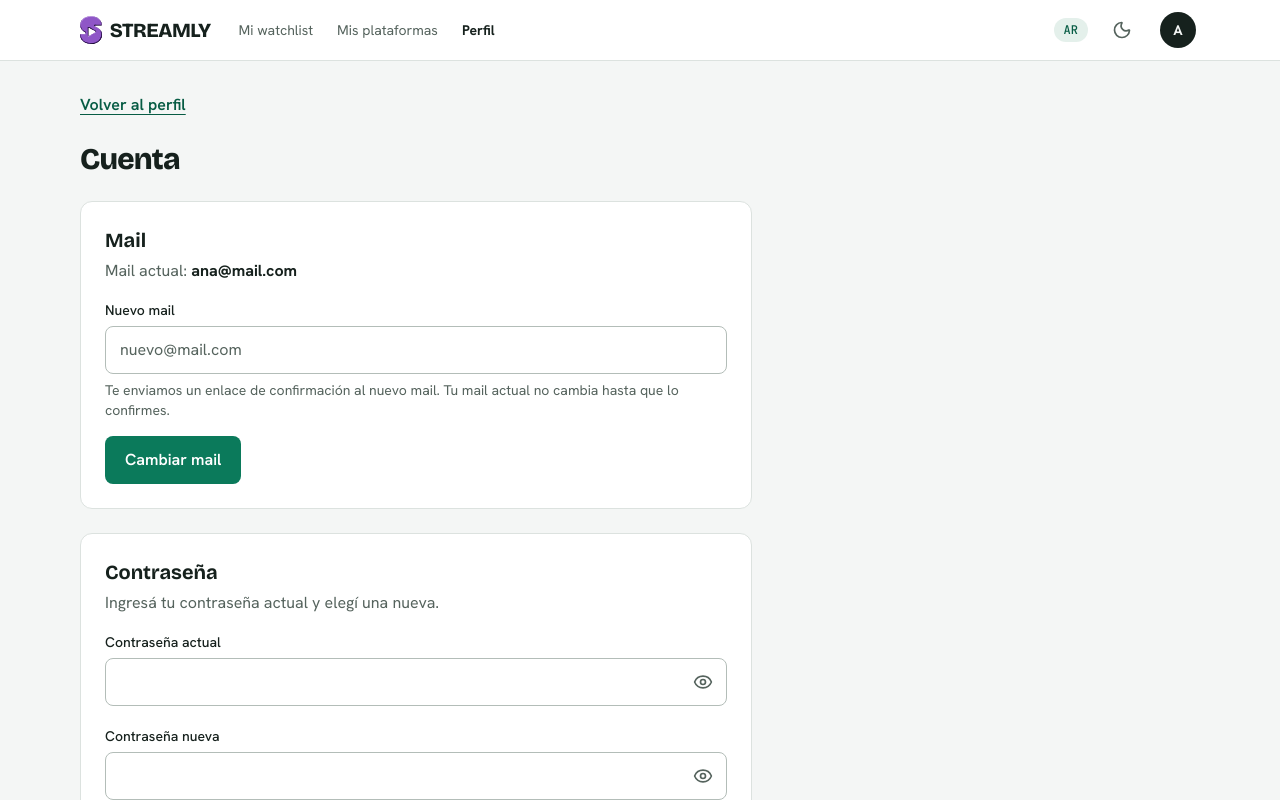
Test: Cuenta: cambiar contraseña › marca la contraseña actual si no es correcta
The width and height of the screenshot is (1280, 800).
Type "Incorrecta#1" into the password field labelled "Contraseña actual".
click(416, 682); type("Incorrecta#1")  # box [105,658,727,706]
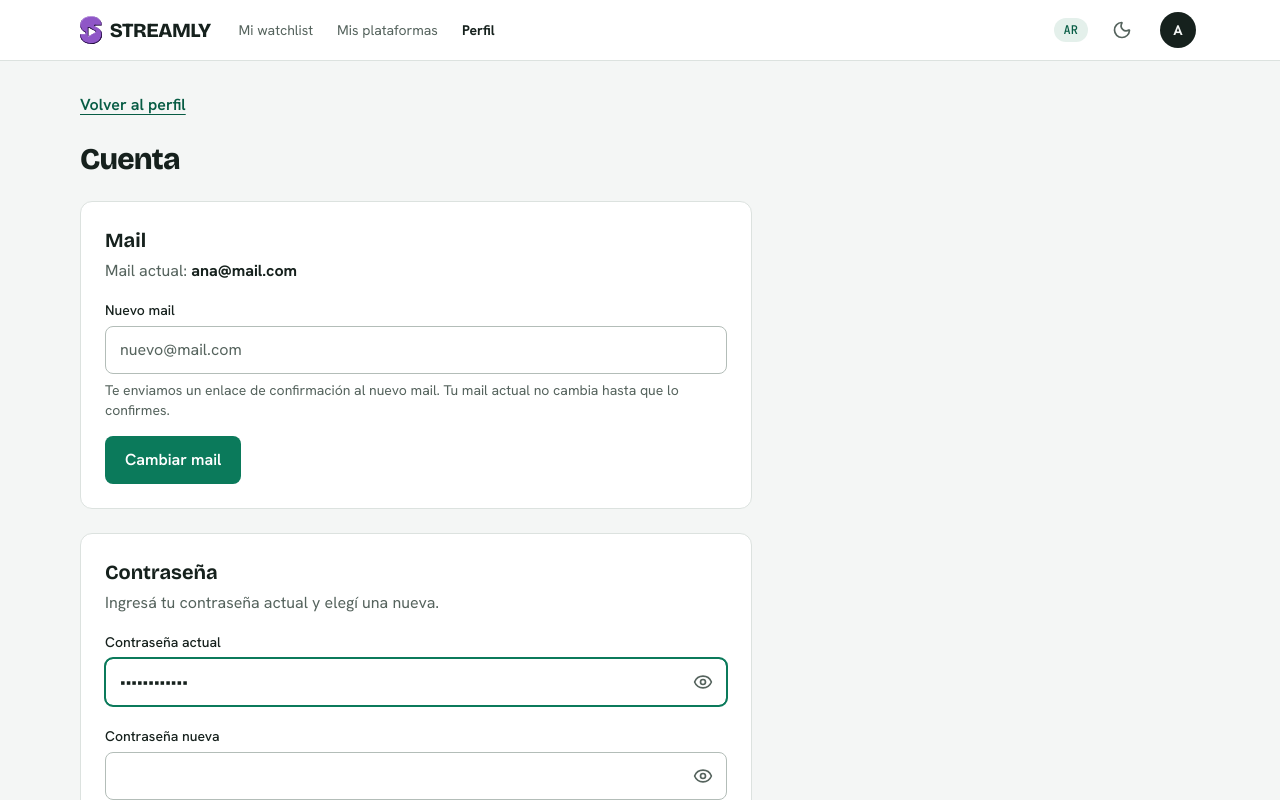
Type "Nueva#2026" into the password field labelled "Contraseña nueva".
click(416, 776); type("Nueva#2026")  # box [105,752,727,799]
(page scrolled)
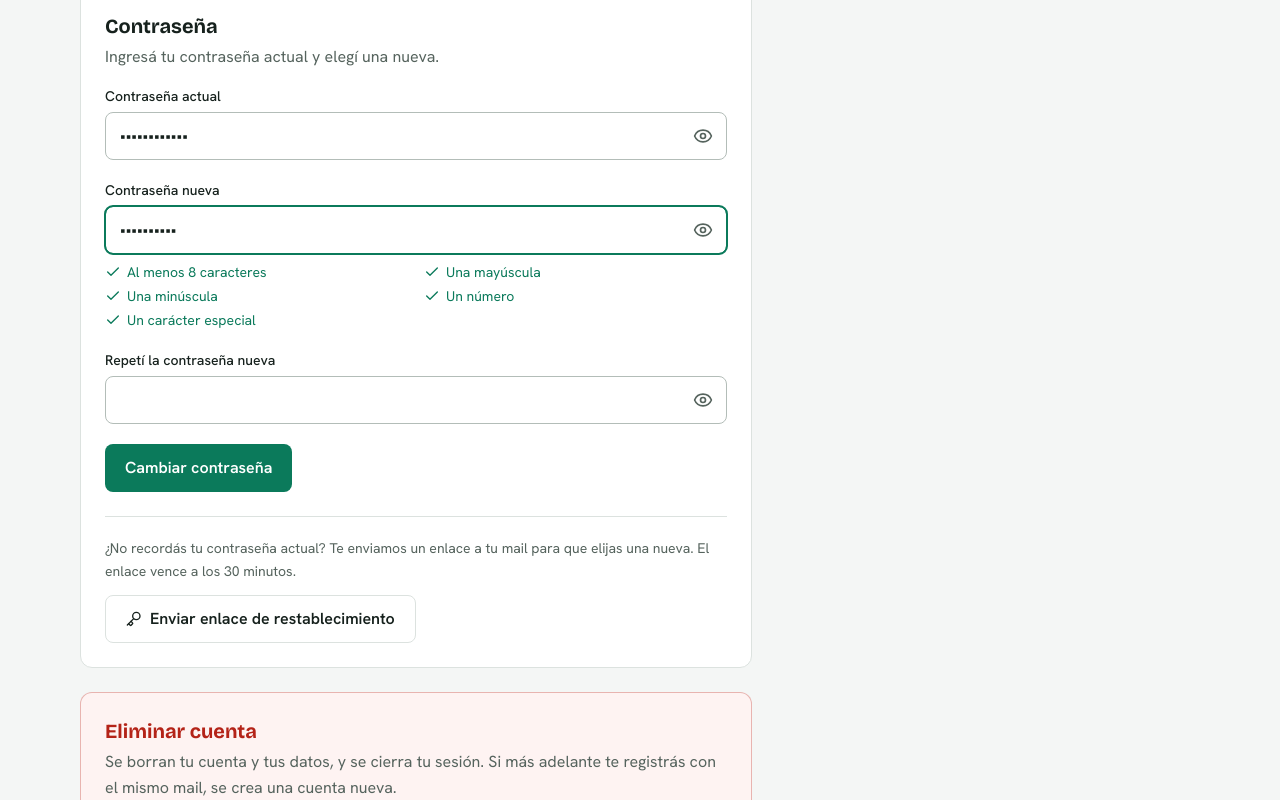
Type "Nueva#2026" into the password field labelled "Repetí la contraseña nueva".
click(416, 400); type("Nueva#2026")  # box [105,376,727,424]
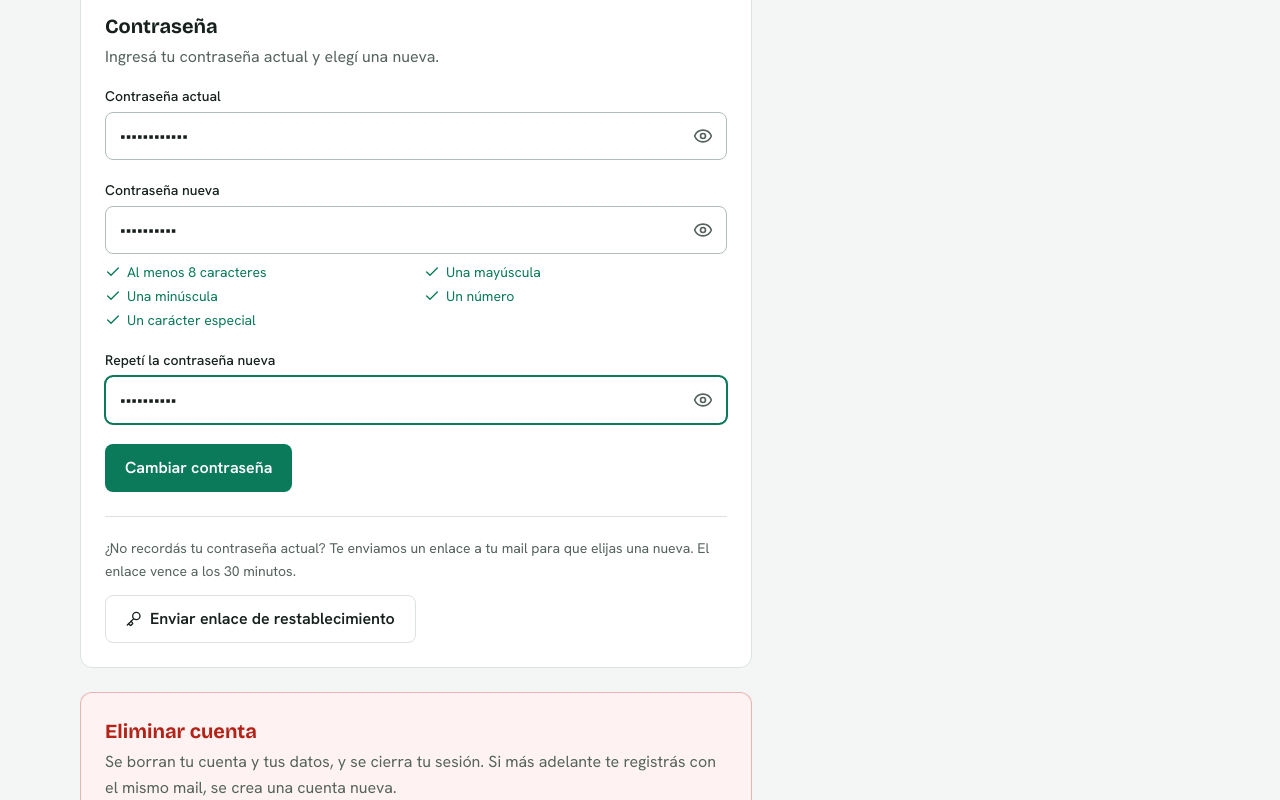
Click the button "Cambiar contraseña".
click(199, 468)  # box [105,444,292,492]
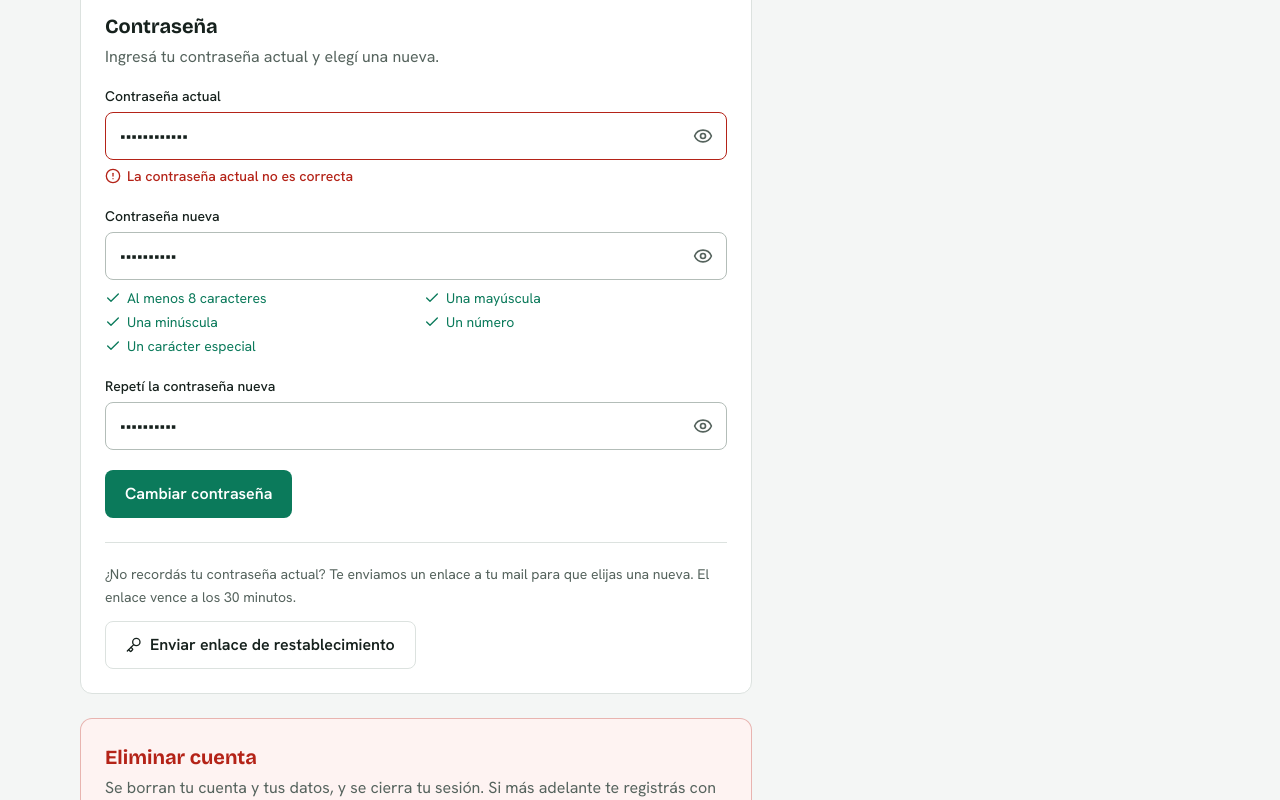
Now the text "La contraseña actual no es correcta" is shown, box [105,167,353,185]
